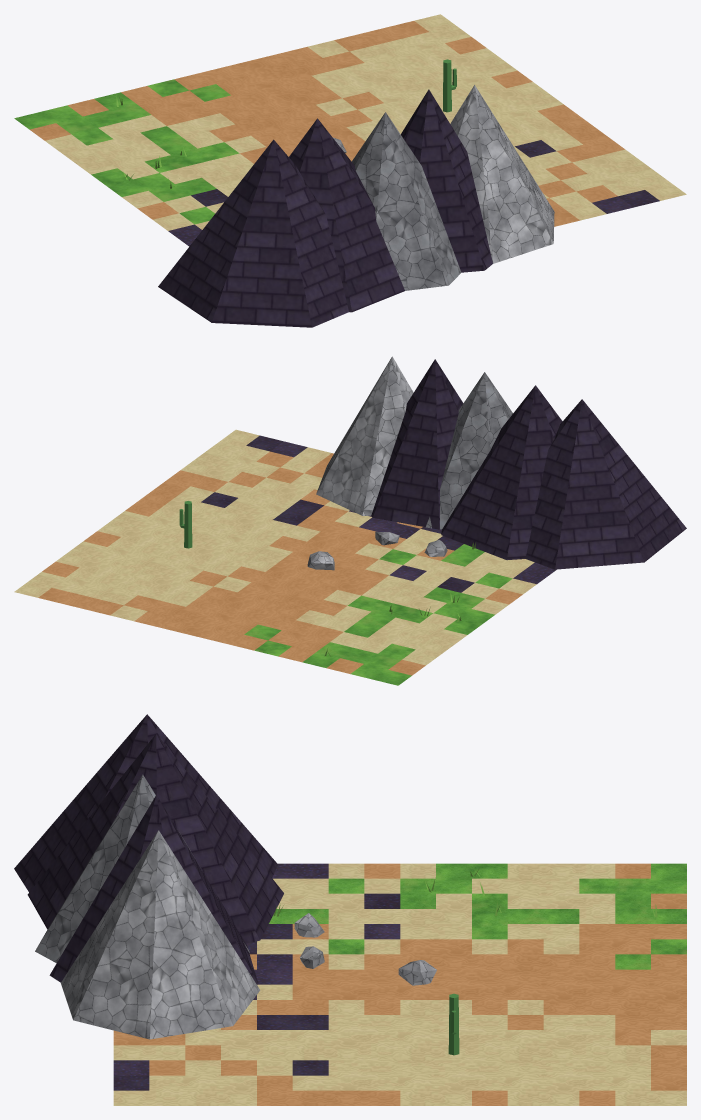
The model's file is chunk_8_21.glb.
3 renders of one model, top to bottom at view 1: azimuth 30°, elevation 25°; view 2: azimuth 150°, elevation 25°; view 3: azimuth 270°, elevation 25°, orthographic. The views are drawn at different scales.
Visible parts, largest first — view 1: chunk_8_21; view 2: chunk_8_21; view 3: chunk_8_21.
Part boxes in pixels (x1,y1,x2,y2): chunk_8_21: (14, 14, 686, 327); chunk_8_21: (14, 356, 686, 685); chunk_8_21: (14, 714, 686, 1105).
Bounding box in the file's own units: 18.43 × 5.71 × 18.78.
10 materials, 8 textured.
